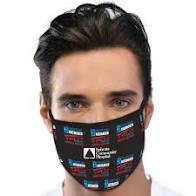cloth_mask: (47, 112, 149, 192)
